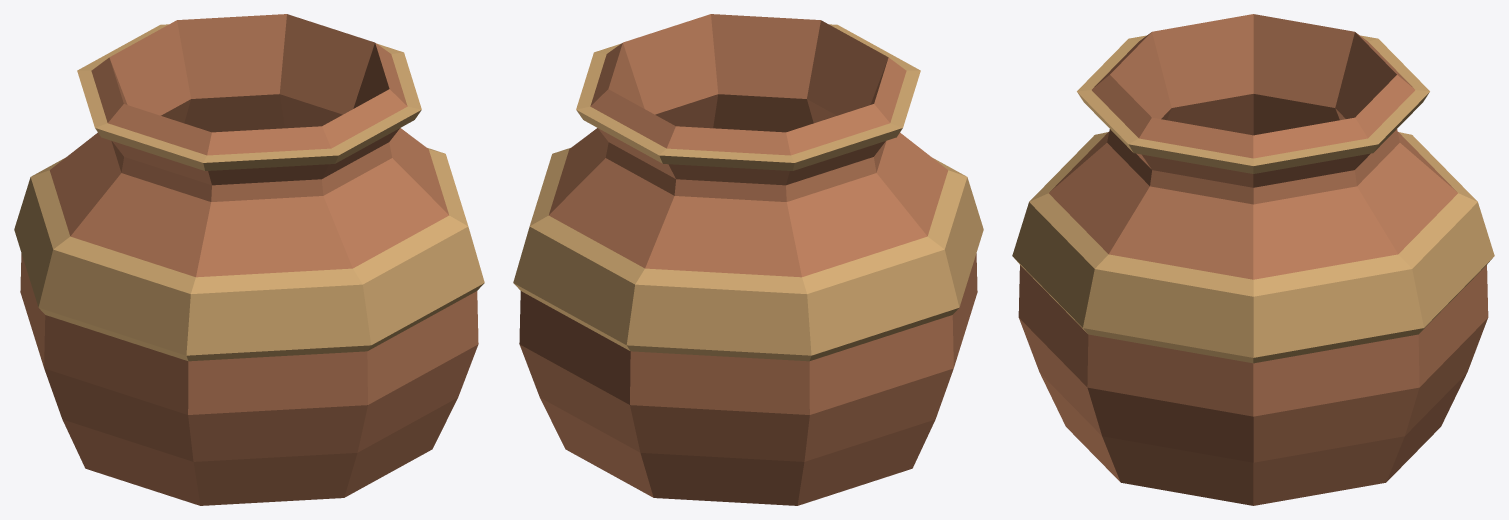
Rendered from VaseRound.fbx.
3 renders of one model, left to right at view 1: azimuth 30°, elevation 25°; view 2: azimuth 150°, elevation 25°; view 3: azimuth 270°, elevation 25°, orthographic.
Parts seen in each view (by area): view 1: VaseRound; view 2: VaseRound; view 3: VaseRound.
Part boxes in pixels (x1,y1,x2,y2): VaseRound: (14, 14, 484, 505); VaseRound: (513, 14, 983, 505); VaseRound: (1012, 14, 1494, 505).
Size of the model in its own units: 70.85 by 60.84 by 70.85.
Materials: 1 (1 with a texture image).
